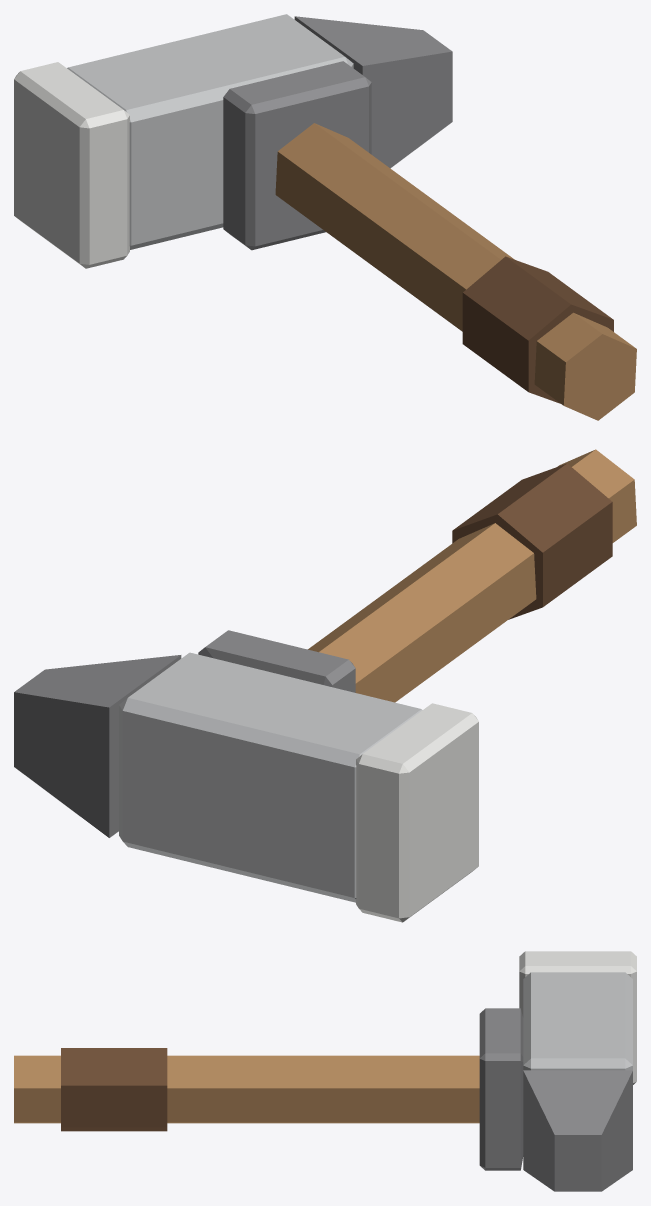
Rendered from SmithingHammer.glb.
3 renders of one model, top to bottom at view 1: azimuth 30°, elevation 25°; view 2: azimuth 150°, elevation 25°; view 3: azimuth 270°, elevation 25°, orthographic. The views are drawn at different scales.
Parts seen in each view (by area): view 1: Hammer.001; view 2: Hammer.001; view 3: Hammer.001.
Part boxes in pixels (x1,y1,x2,y2): Hammer.001: [14, 14, 636, 420]; Hammer.001: [14, 449, 636, 922]; Hammer.001: [14, 951, 636, 1191].
Size of the model in its own units: 0.619 by 0.2263 by 1.06.
